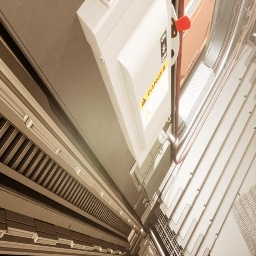SafetySwitchPanel ,: (77, 0, 191, 168)
